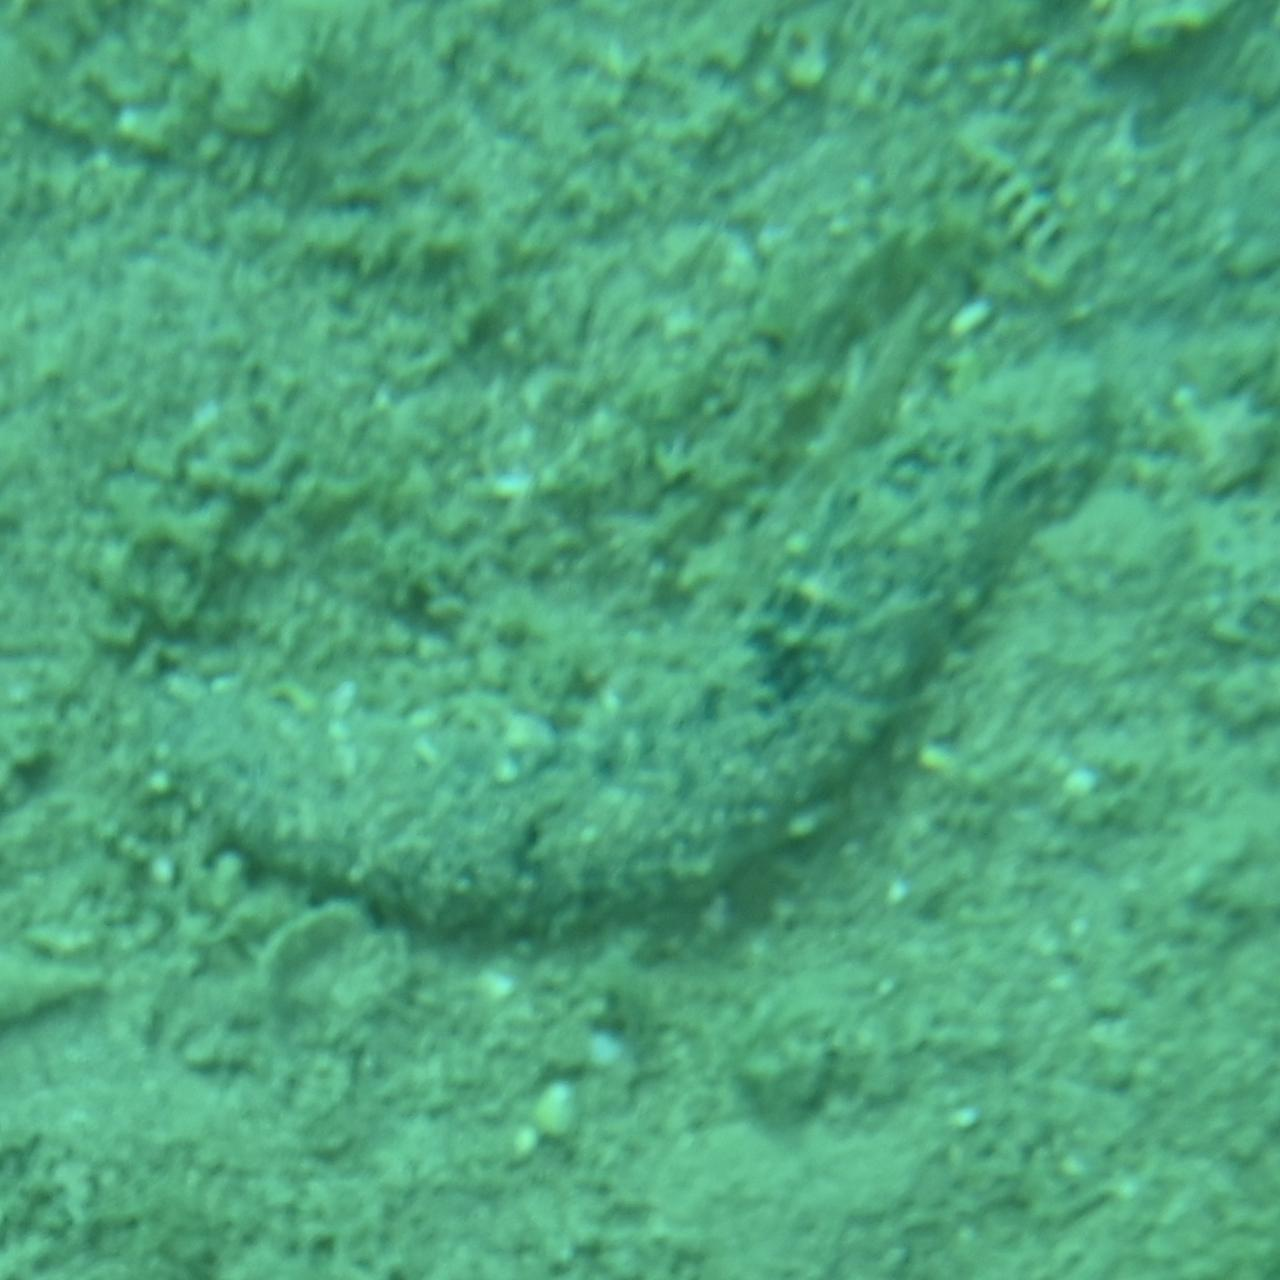Holothuria tubulosa: (146, 343, 1134, 937)
